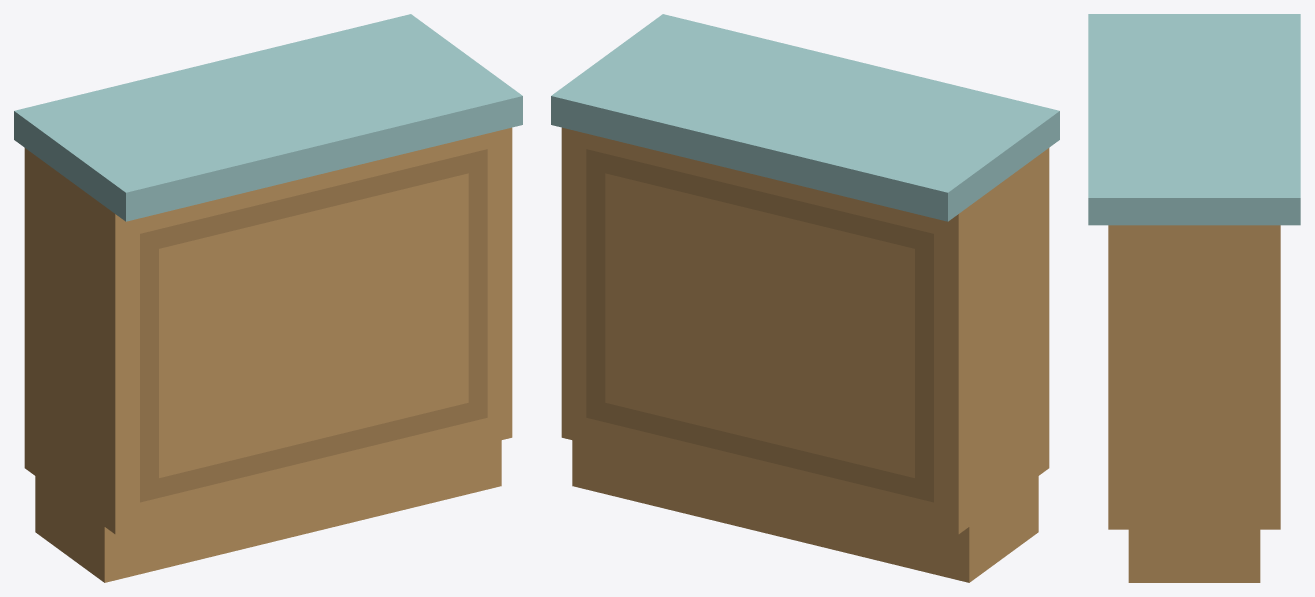
File: kitchenBar.glb
The picture shows the model from 3 angles, left to right: view 1: azimuth 30°, elevation 25°; view 2: azimuth 150°, elevation 25°; view 3: azimuth 270°, elevation 25°; orthographic projection. The views are drawn at different scales.
Size of the model in its own units: 4.3 by 4.2 by 2.1.
